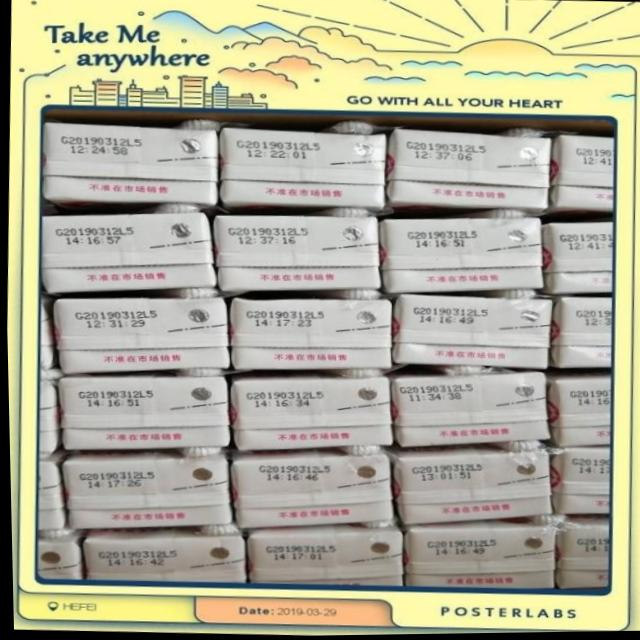box: (42, 123, 216, 207), (38, 212, 214, 295), (58, 448, 231, 530), (384, 129, 551, 213), (382, 445, 551, 525), (52, 297, 227, 374), (220, 130, 384, 209), (53, 378, 229, 451), (228, 451, 391, 528), (209, 216, 380, 289), (387, 373, 550, 448), (226, 378, 391, 452), (380, 219, 542, 294), (390, 297, 551, 371), (226, 298, 391, 370), (402, 519, 553, 589), (244, 525, 402, 588), (81, 527, 247, 584), (540, 223, 613, 296), (545, 377, 611, 450), (550, 138, 613, 214), (546, 446, 611, 517), (547, 298, 610, 370), (554, 516, 608, 589), (35, 445, 73, 530), (32, 530, 85, 579), (36, 365, 60, 458), (38, 292, 53, 368)
